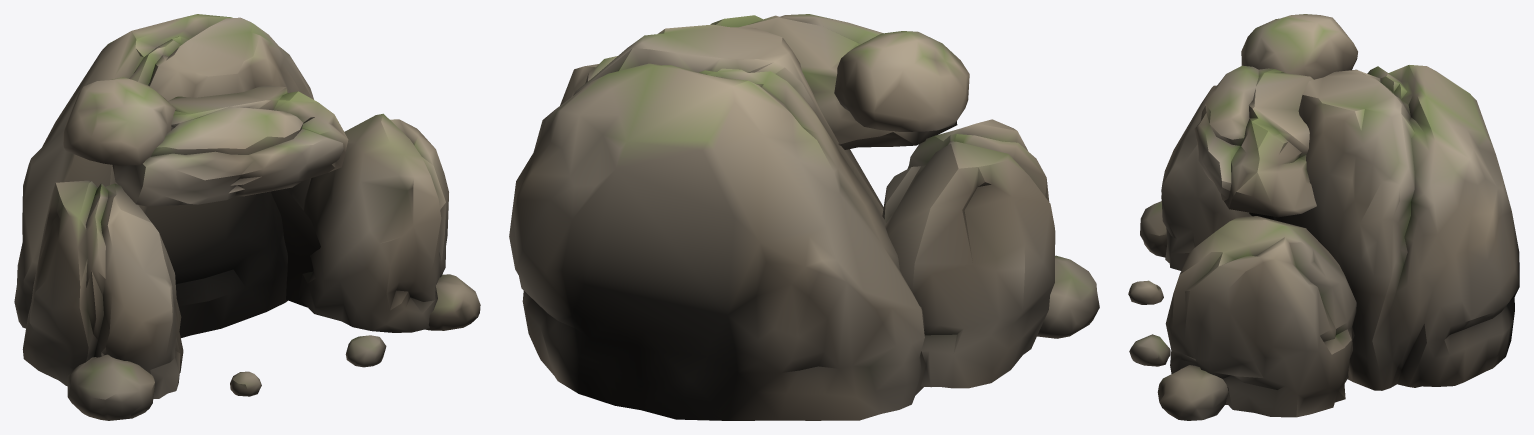
File: land-seaCaveMouth-low.glb
3 views of the same model, side by side, from view 1: azimuth 30°, elevation 25°; view 2: azimuth 150°, elevation 25°; view 3: azimuth 270°, elevation 25° (orthographic). The views are drawn at different scales.
Parts seen in each view (by area): view 1: 0_seaCaveMouth; view 2: 0_seaCaveMouth; view 3: 0_seaCaveMouth.
Part boxes in pixels (x1=…): 0_seaCaveMouth: x1=14, y1=14, x2=480, y2=420; 0_seaCaveMouth: x1=509, y1=14, x2=1099, y2=420; 0_seaCaveMouth: x1=1128, y1=14, x2=1519, y2=420.
Bounding box in the file's own units: 4.25 × 2.62 × 3.59.
